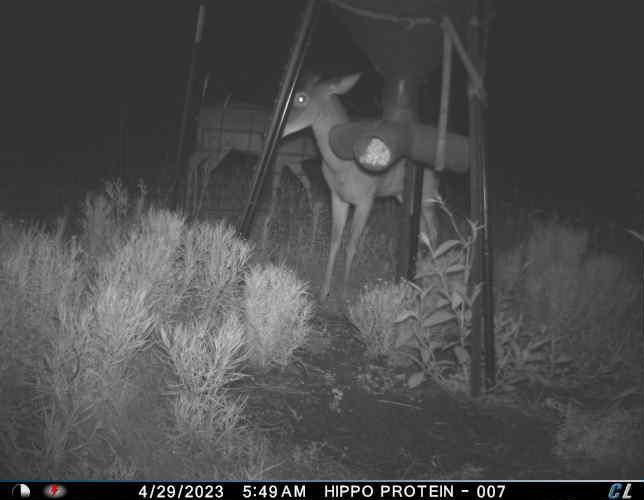Deer: (279, 64, 442, 309), (187, 96, 319, 221)
